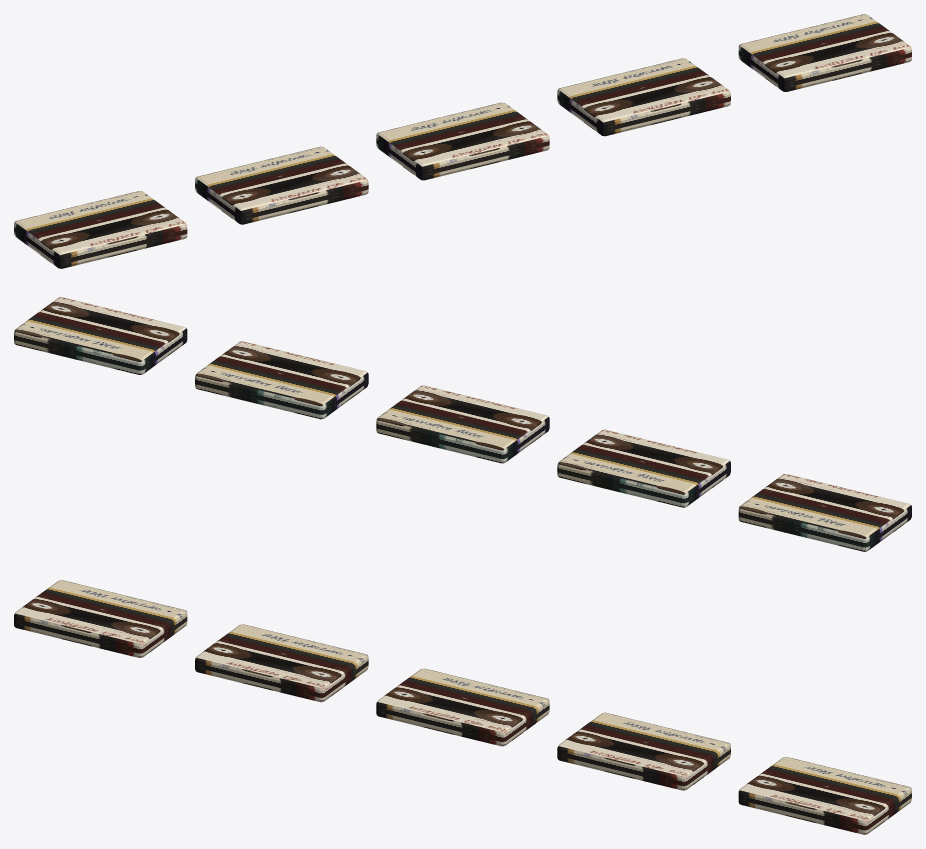
The model's file is cassettes.glb.
3 views of the same model, one above another, from view 1: azimuth 30°, elevation 25°; view 2: azimuth 150°, elevation 25°; view 3: azimuth 330°, elevation 25° (orthographic).
Visible parts, largest first — view 1: Cassette_2, Cassette_0, Cassette_1, Cassette_3, Cassette_4; view 2: Cassette_2, Cassette_0, Cassette_1, Cassette_3, Cassette_4; view 3: Cassette_2, Cassette_0, Cassette_1, Cassette_3, Cassette_4.
Part boxes in pixels (x1=…): Cassette_2: x1=376, y1=102, x2=549, y2=180; Cassette_0: x1=14, y1=191, x2=187, y2=268; Cassette_1: x1=195, y1=146, x2=368, y2=224; Cassette_3: x1=557, y1=58, x2=730, y2=136; Cassette_4: x1=738, y1=14, x2=911, y2=91; Cassette_2: x1=376, y1=385, x2=549, y2=463; Cassette_0: x1=738, y1=474, x2=911, y2=551; Cassette_1: x1=557, y1=429, x2=730, y2=507; Cassette_3: x1=195, y1=341, x2=368, y2=419; Cassette_4: x1=14, y1=297, x2=187, y2=374; Cassette_2: x1=376, y1=668, x2=549, y2=746; Cassette_0: x1=14, y1=580, x2=187, y2=657; Cassette_1: x1=195, y1=624, x2=368, y2=702; Cassette_3: x1=557, y1=712, x2=730, y2=790; Cassette_4: x1=738, y1=757, x2=911, y2=834.
Bounding box in the file's own units: 6.6 × 0.12 × 0.63.
1 material, 1 textured.
